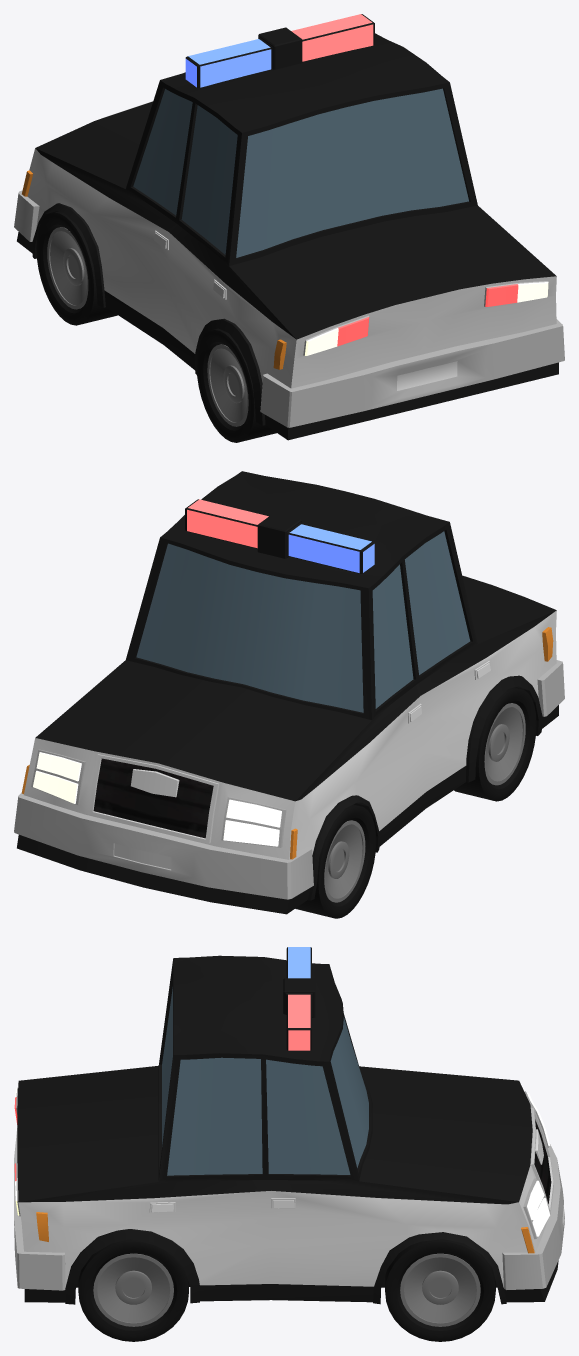
Rendered from police-cruiser.glb.
The picture shows the model from 3 angles, top to bottom: view 1: azimuth 30°, elevation 25°; view 2: azimuth 150°, elevation 25°; view 3: azimuth 270°, elevation 25°; orthographic projection. The views are drawn at different scales.
Parts seen in each view (by area): view 1: body, wheel-front-left, wheel-rear-left; view 2: body, wheel-rear-left, wheel-front-left; view 3: body, wheel-front-right, wheel-rear-right.
Boxes of the visible parts, x1,y1,x2,y2 form: body: (14, 14, 564, 440); wheel-front-left: (36, 211, 117, 325); wheel-rear-left: (196, 329, 276, 442); body: (14, 471, 564, 914); wheel-rear-left: (454, 687, 536, 801); wheel-front-left: (295, 804, 376, 918); body: (14, 947, 564, 1304); wheel-front-right: (385, 1239, 495, 1341); wheel-rear-right: (78, 1239, 188, 1341).
Bounding box in the file's own units: 2.3 × 2.34 × 4.
Materials: 15 (1 with a texture image).
